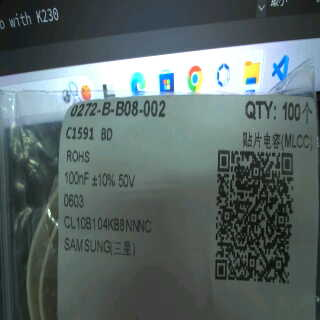100nF: (61, 168, 92, 186)
